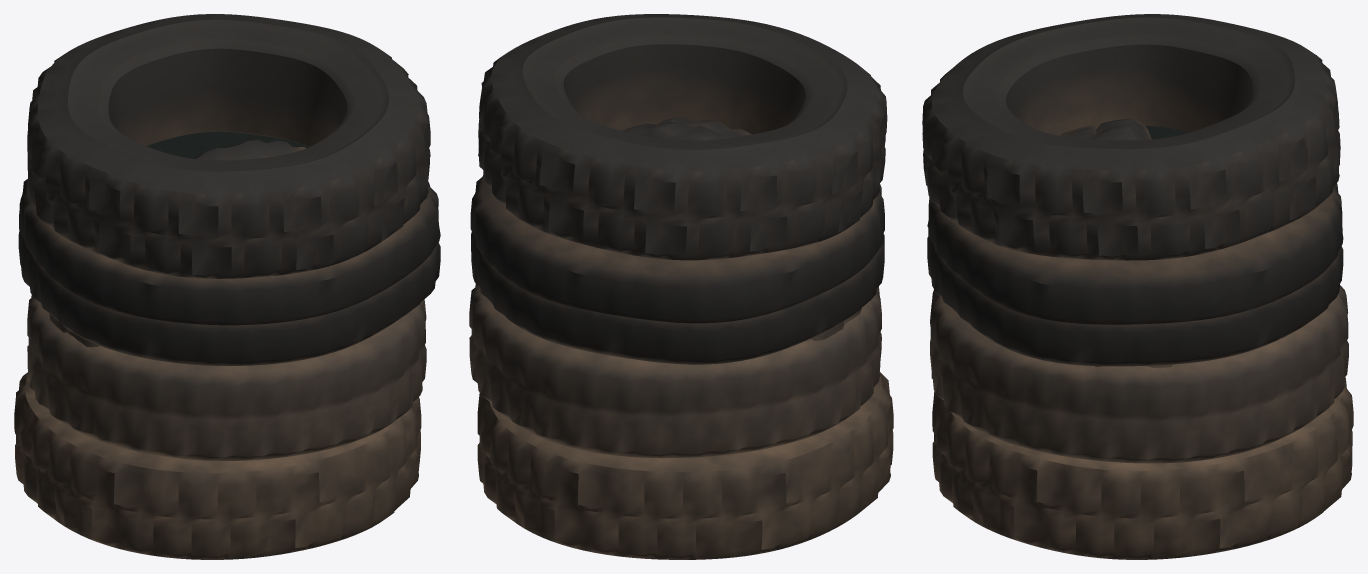
File: TireStackV2.fbx
3 renders of one model, left to right at view 1: azimuth 30°, elevation 25°; view 2: azimuth 150°, elevation 25°; view 3: azimuth 270°, elevation 25°, orthographic. The views are drawn at different scales.
Parts seen in each view (by area): view 1: TireStack_4, TireLeaning; view 2: TireStack_4, TireLeaning; view 3: TireStack_4, TireLeaning.
Boxes of the visible parts, x1,y1,x2,y2 form: TireStack_4: [14, 14, 440, 559]; TireLeaning: [49, 140, 305, 347]; TireStack_4: [469, 14, 893, 559]; TireLeaning: [624, 117, 861, 340]; TireStack_4: [922, 14, 1353, 559]; TireLeaning: [1061, 118, 1173, 367].
Size of the model in its own units: 75.61 by 80.44 by 76.53.
Materials: 3 (3 with a texture image).
